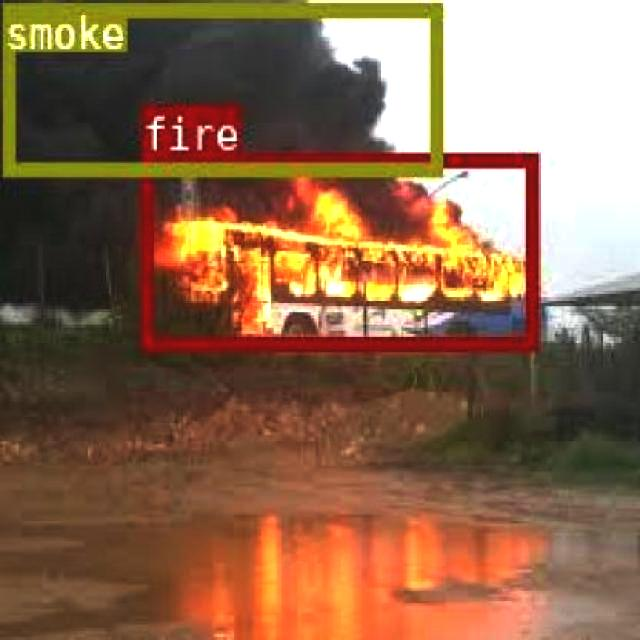fire: (140, 153, 534, 347)
smoke: (1, 1, 441, 172)
